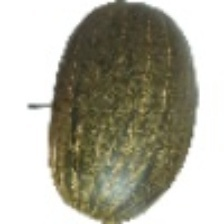honeydew: (30, 51, 167, 208)
